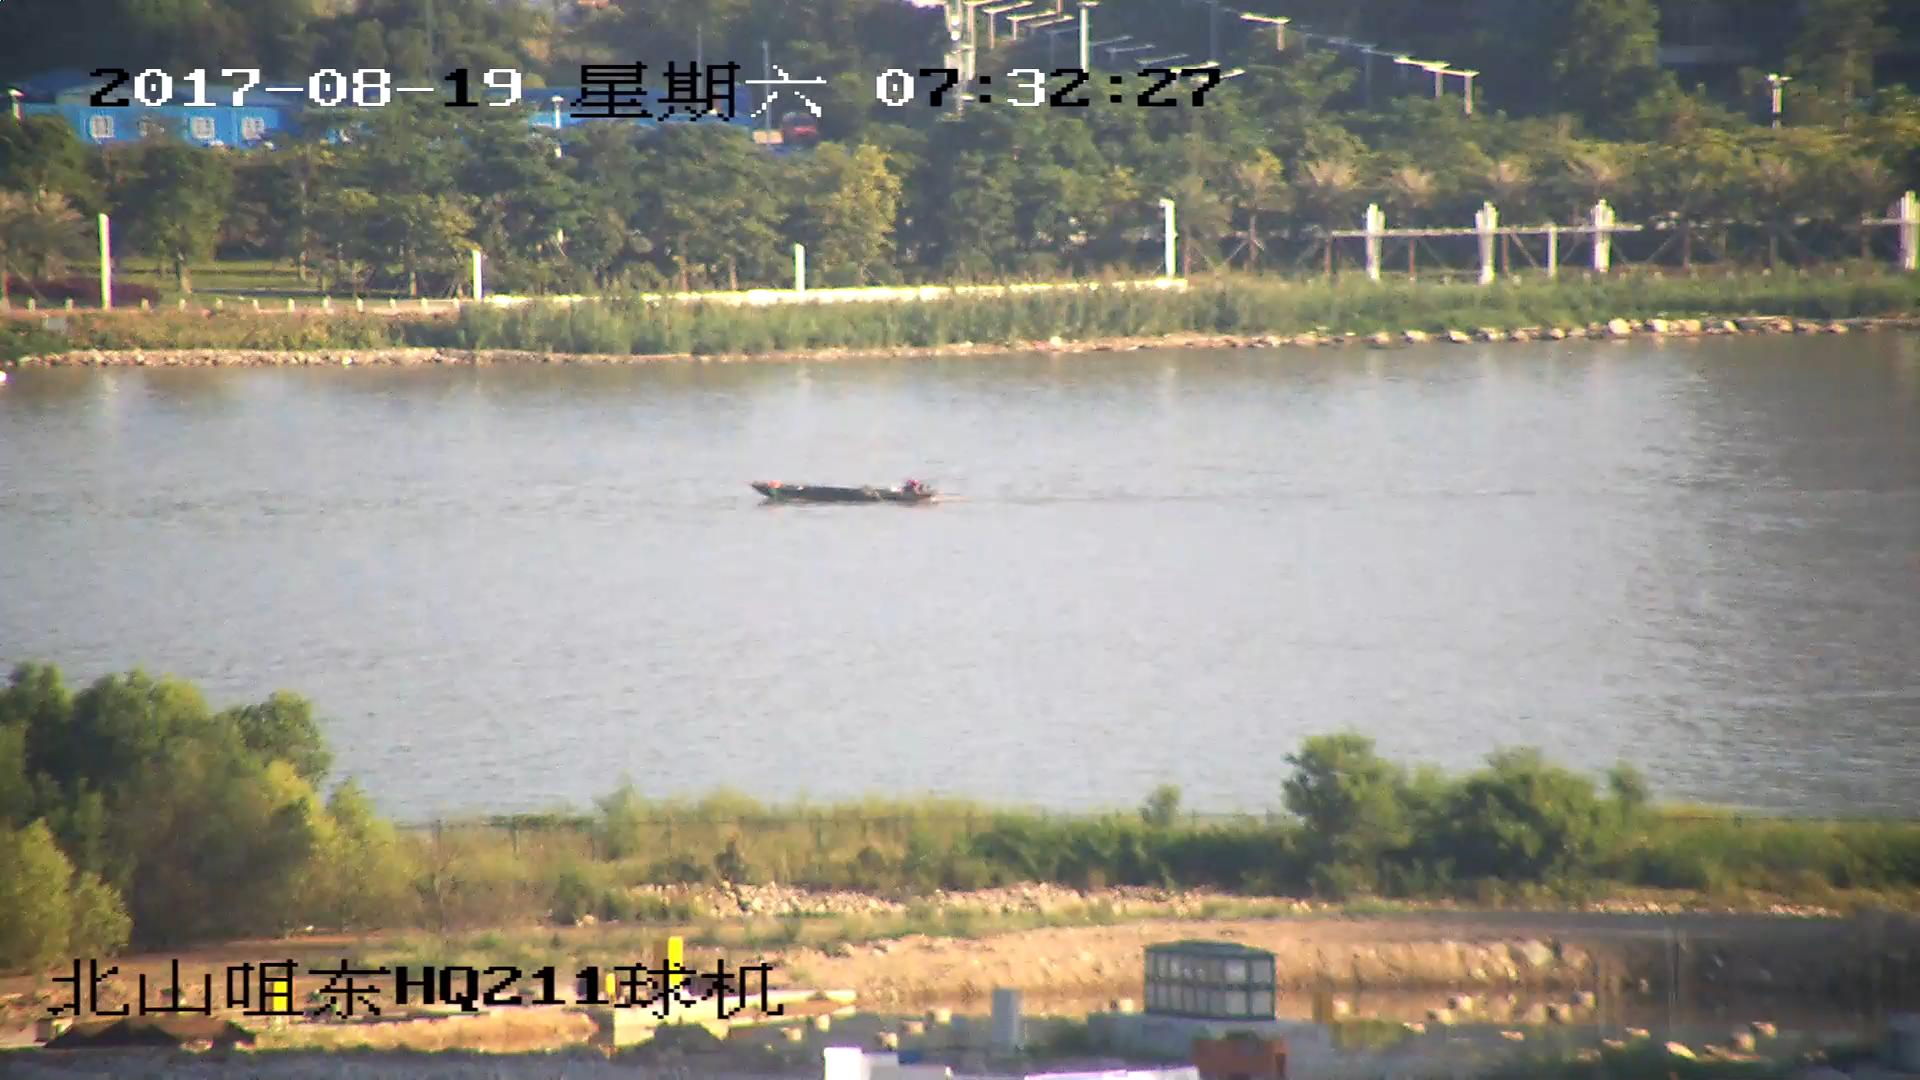fishing boat: (753, 473, 931, 506)
